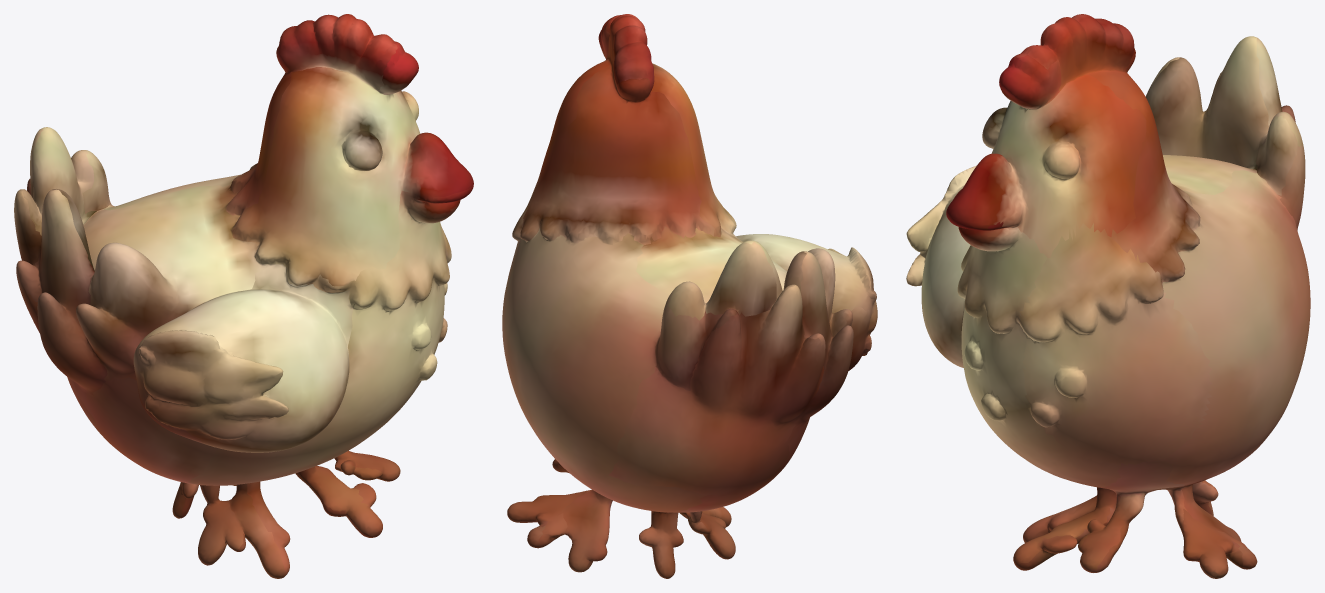
File: ga-trang.glb
The picture shows the model from 3 angles, left to right: view 1: azimuth 30°, elevation 25°; view 2: azimuth 150°, elevation 25°; view 3: azimuth 270°, elevation 25°; orthographic projection. The views are drawn at different scales.
Bounding box in the file's own units: 0.0839 × 0.1142 × 0.073.
Materials: 1 (1 with a texture image).
